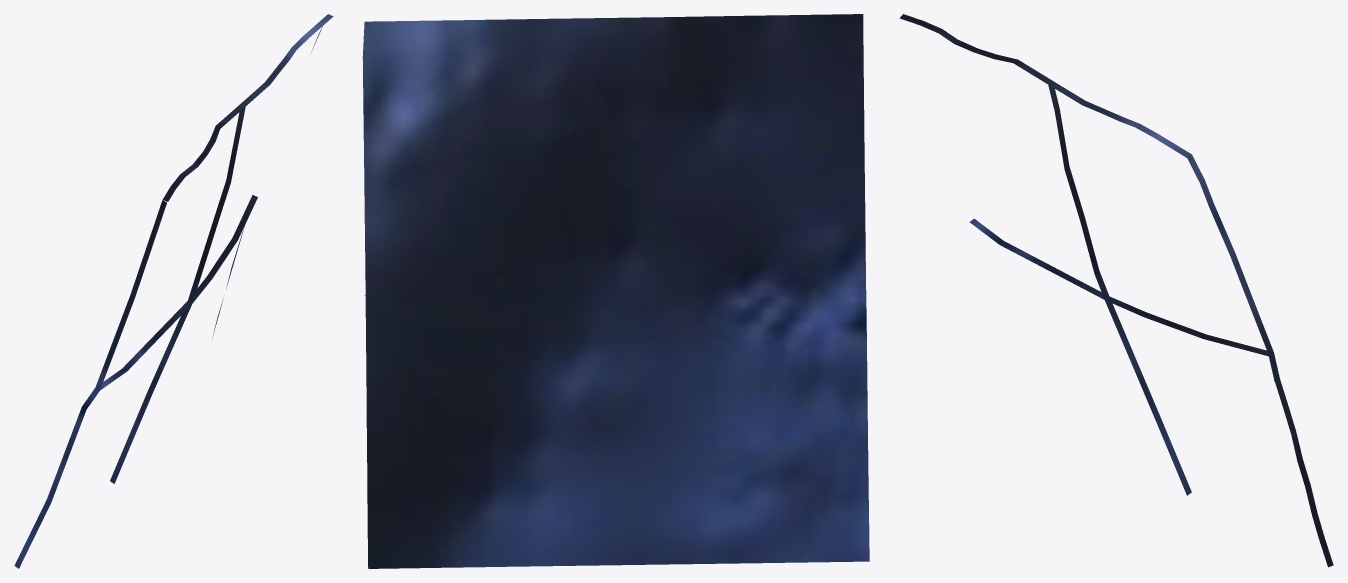
3 renders of one model, left to right at view 1: azimuth 30°, elevation 25°; view 2: azimuth 150°, elevation 25°; view 3: azimuth 270°, elevation 25°, orthographic. The views are drawn at different scales.
Size of the model in its own units: 18152 by 19238 by 16485.
Materials: 1 (1 with a texture image).
